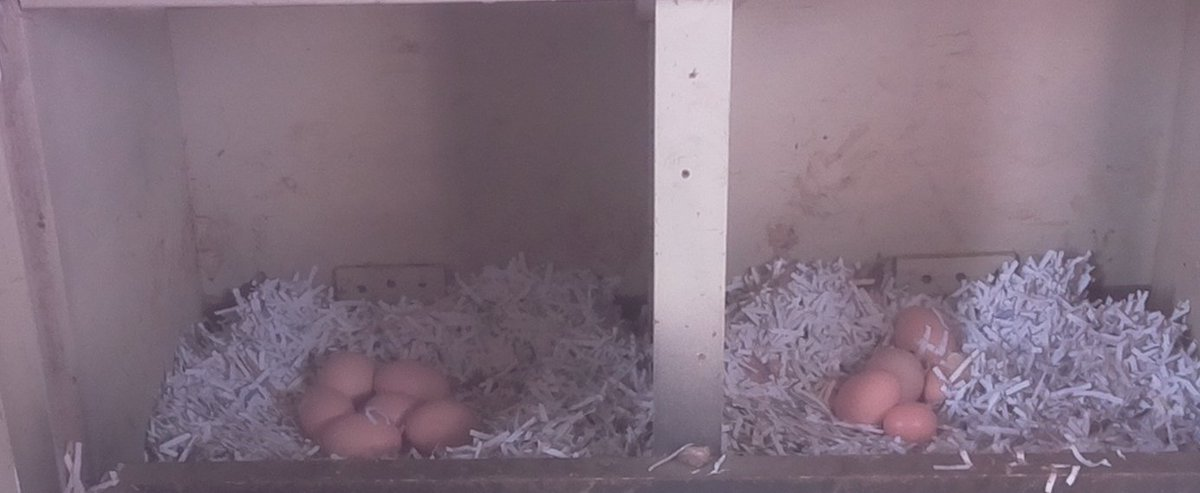egg: (824, 365, 903, 433), (404, 395, 489, 455), (314, 412, 411, 461), (890, 304, 967, 365), (370, 352, 458, 403), (858, 347, 930, 405), (293, 381, 359, 443), (310, 348, 379, 404), (923, 347, 977, 416), (877, 396, 943, 449), (361, 390, 427, 422)
